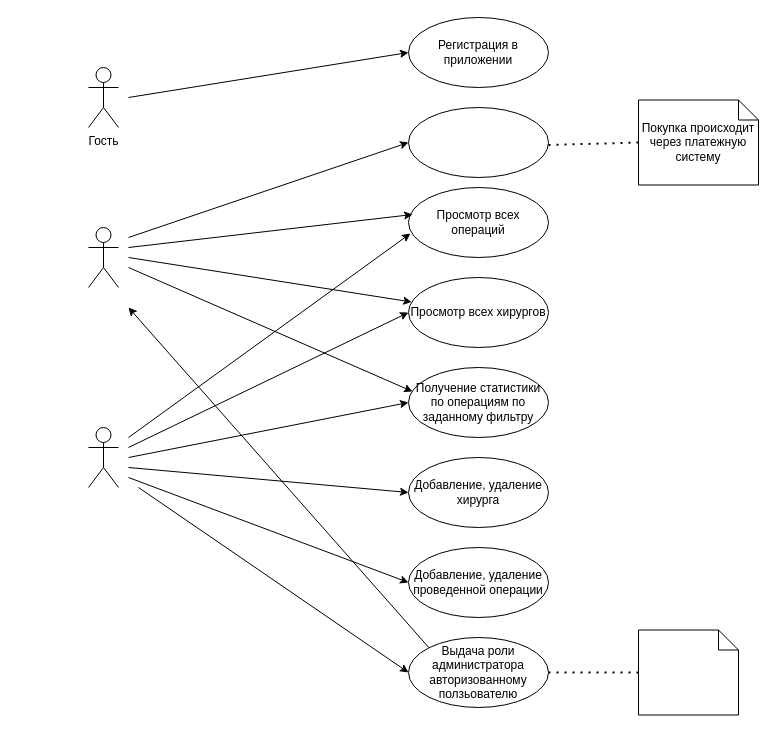
This 776x733 diagram has some shape labels left out. The shapes that lost their labels are listed below. From the top down, each one's box as (x1, y1, x2, y2) in pixels, then its label:
(408, 106, 548, 178): Покупка лицензии на приложение
(88, 226, 118, 288): Авторизованный пользователь
(88, 426, 118, 488): Администратор
(638, 629, 738, 715): Проверка на существующего пользователя
